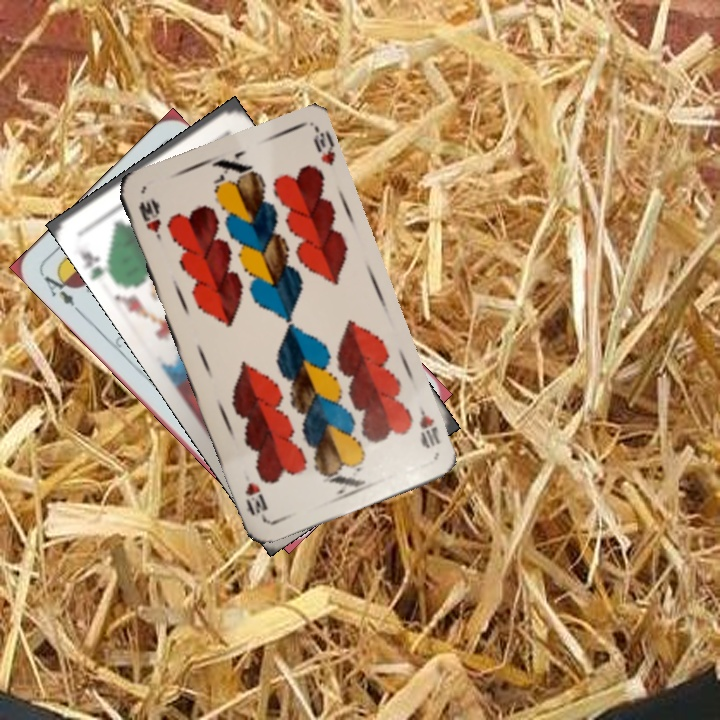EA: (37, 267, 84, 316)
GK: (75, 245, 115, 283)
H10: (414, 401, 443, 452), (134, 196, 164, 244)
